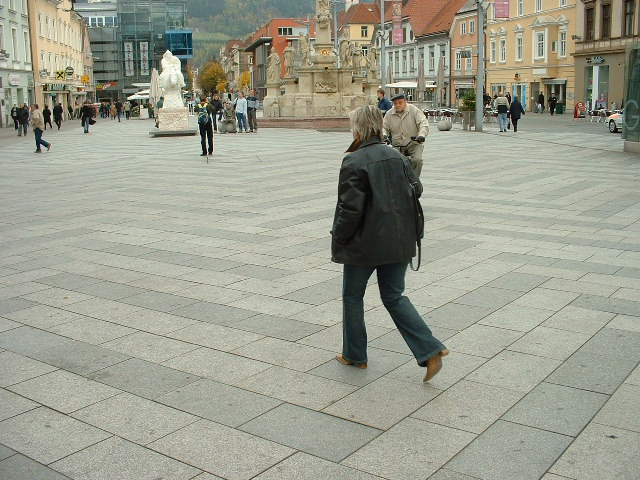person: (332, 104, 449, 385)
